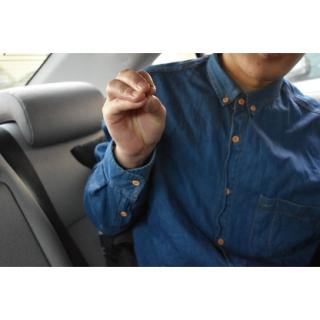HA: (99, 67, 173, 168)
